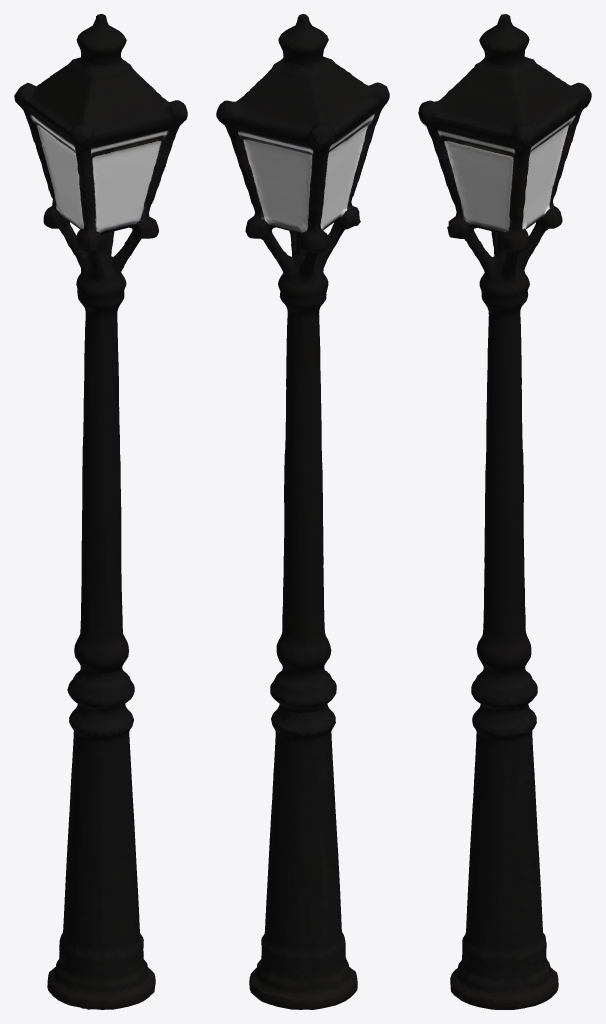
Rendered from street-lamp.glb.
3 views of the same model, side by side, from view 1: azimuth 30°, elevation 25°; view 2: azimuth 150°, elevation 25°; view 3: azimuth 330°, elevation 25° (orthographic).
Visible parts, largest first — view 1: mes_placement; view 2: mes_placement; view 3: mes_placement.
Part boxes in pixels (<box>): mes_placement: <box>14,14,187,1009</box>; mes_placement: <box>216,14,389,1009</box>; mes_placement: <box>418,14,591,1009</box>.
Size of the model in its own units: 0.4222 by 3.4 by 0.4308.
Materials: 1 (1 with a texture image).
